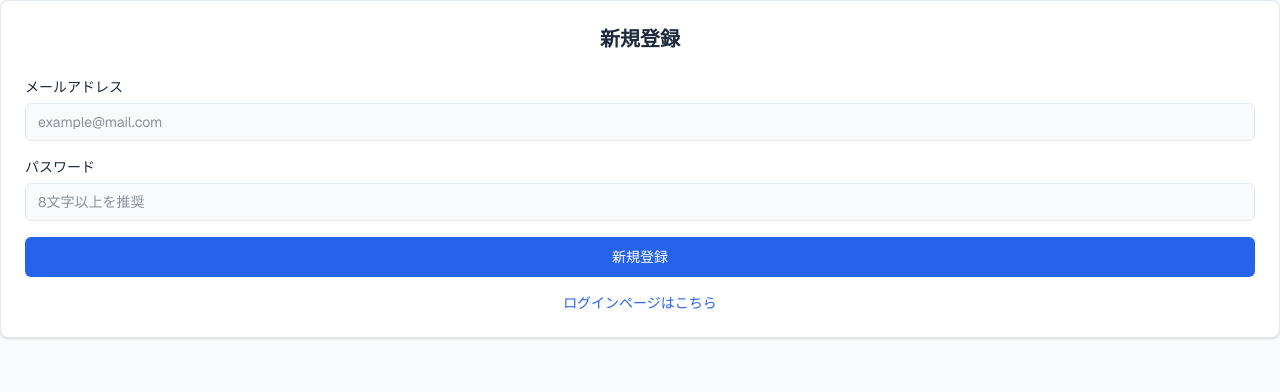
it: signup › 新規登録に失敗した場合、エラーメッセージが表示される
The image size is (1280, 392).
Type "test@example.com" into the field with placeholder "example@mail.com" at (640, 122), box x1=25 y1=103 x2=1255 y2=141
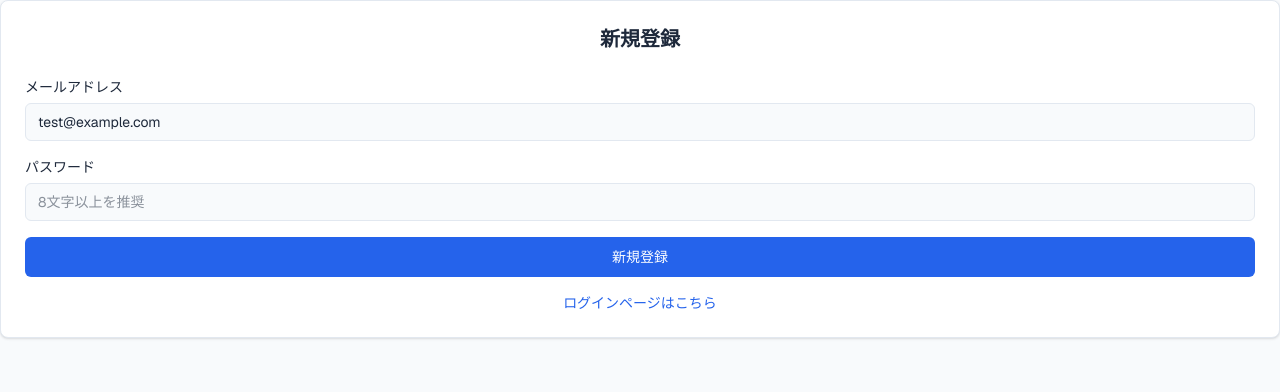
Type "123456" into the password field with placeholder "8文字以上を推奨" at (640, 202), box x1=25 y1=183 x2=1255 y2=221
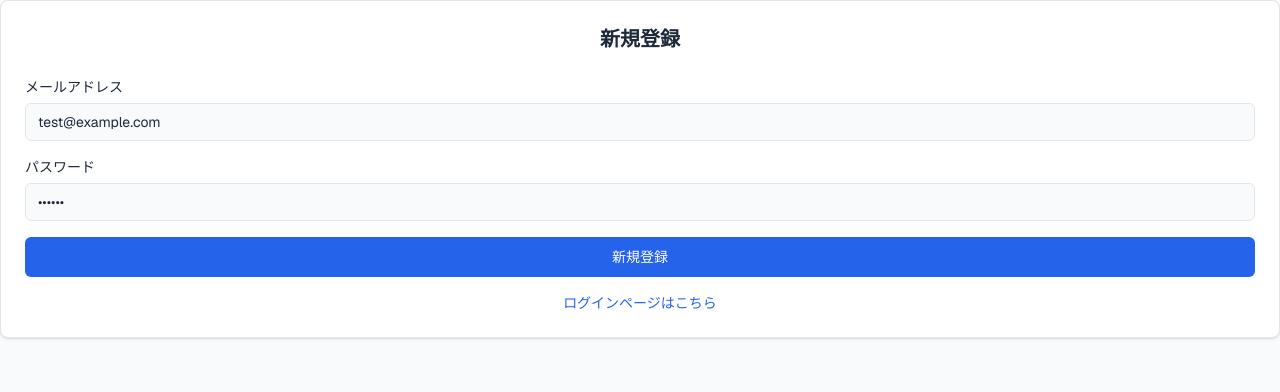
Click the button "新規登録" at (640, 257), box x1=25 y1=237 x2=1255 y2=277
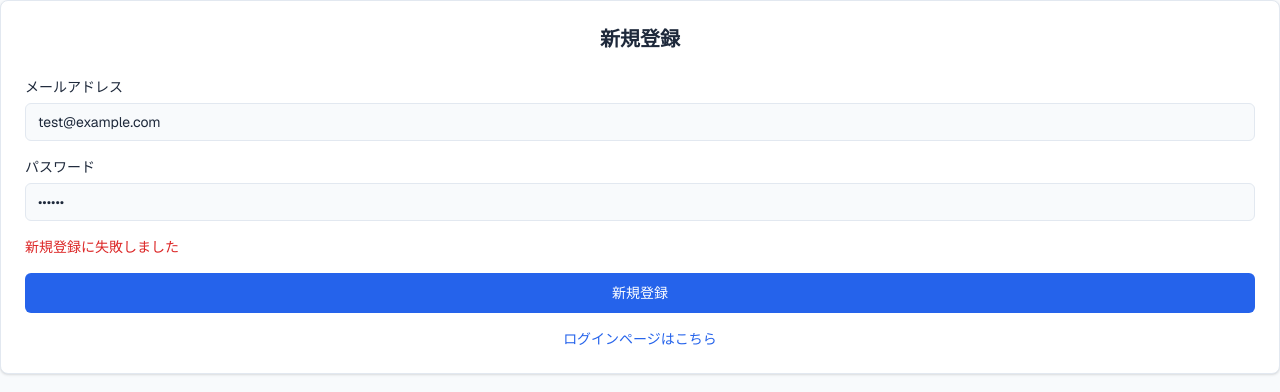
Expected: the text "新規登録に失敗しました" is shown, x1=25 y1=238 x2=179 y2=256
